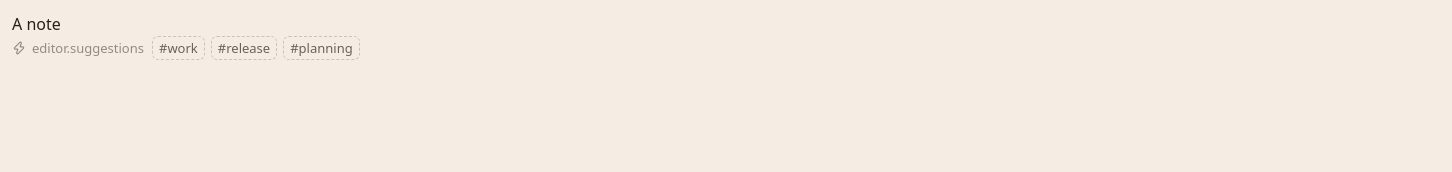
Test: editor suggestions › shows at most three and fills the vacated slot after acceptance
Click the button with aria-label "common.add #work" at [178, 48], box 152,36 -> 205,60
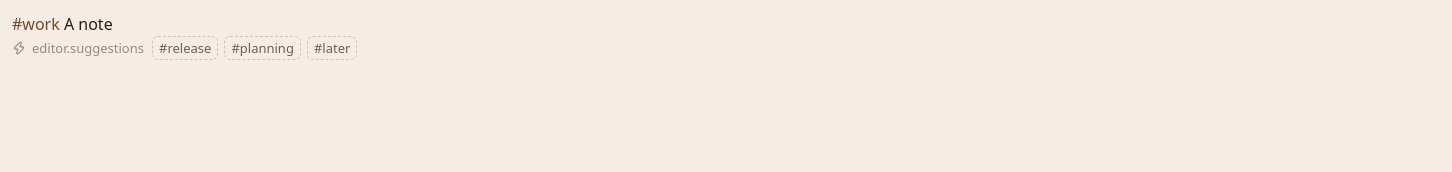
Now the text box labelled "#work A note" is shown, box 12,12 -> 1451,36
Now the button with aria-label "common.add #later" is shown, box 307,36 -> 357,60
